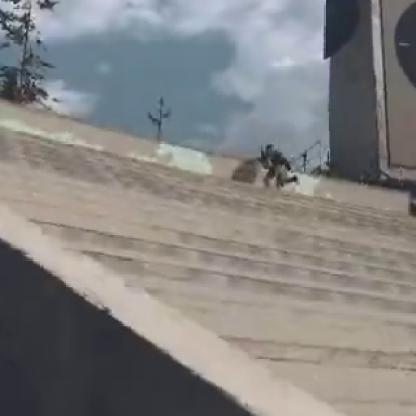enemy: (257, 143, 295, 189)
